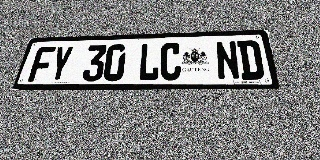0: (102, 44, 127, 81)
3: (81, 45, 107, 82)
C: (159, 42, 181, 81)
D: (237, 40, 265, 80)
F: (27, 46, 56, 82)
L: (137, 43, 160, 81)
N: (215, 41, 241, 80)
Y: (47, 46, 74, 82)
